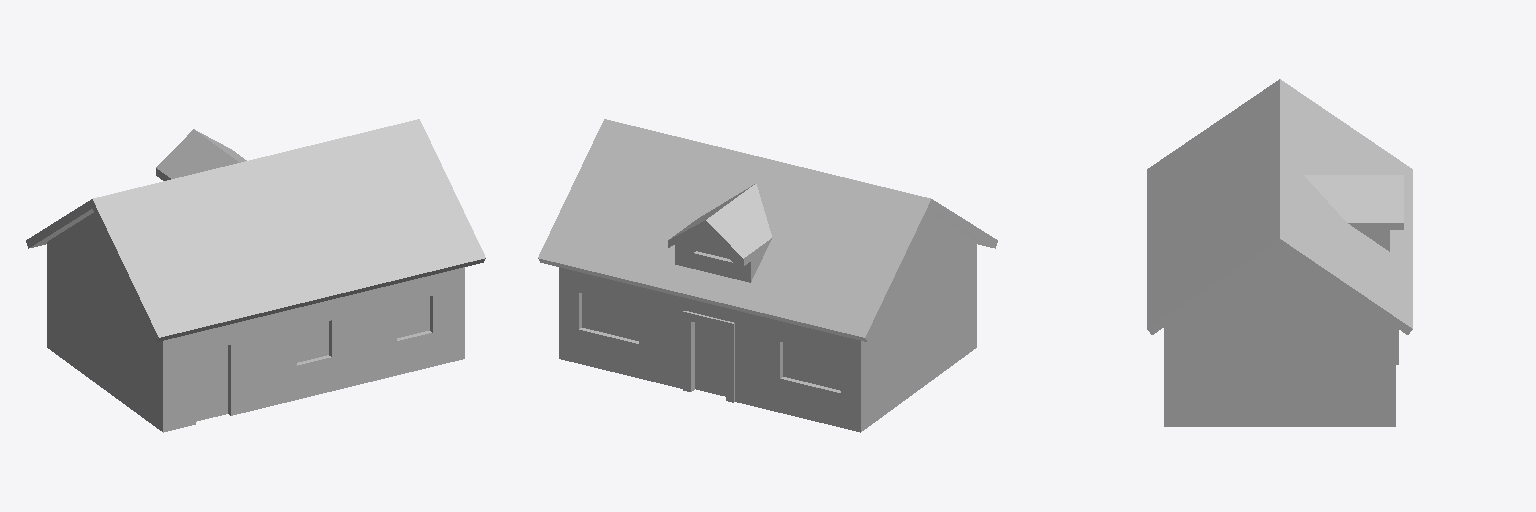
Rendered from house_type07.obj.
3 views of the same model, side by side, from view 1: azimuth 30°, elevation 25°; view 2: azimuth 150°, elevation 25°; view 3: azimuth 270°, elevation 25° (orthographic).
Parts seen in each view (by area): view 1: house_type07; view 2: house_type07; view 3: house_type07.
Part boxes in pixels (x1,y1,x2,y2): house_type07: (26,119,485,432); house_type07: (538,119,997,432); house_type07: (1147,79,1412,426).
Bounding box in the file's own units: 1.3 × 0.7375 × 0.916.